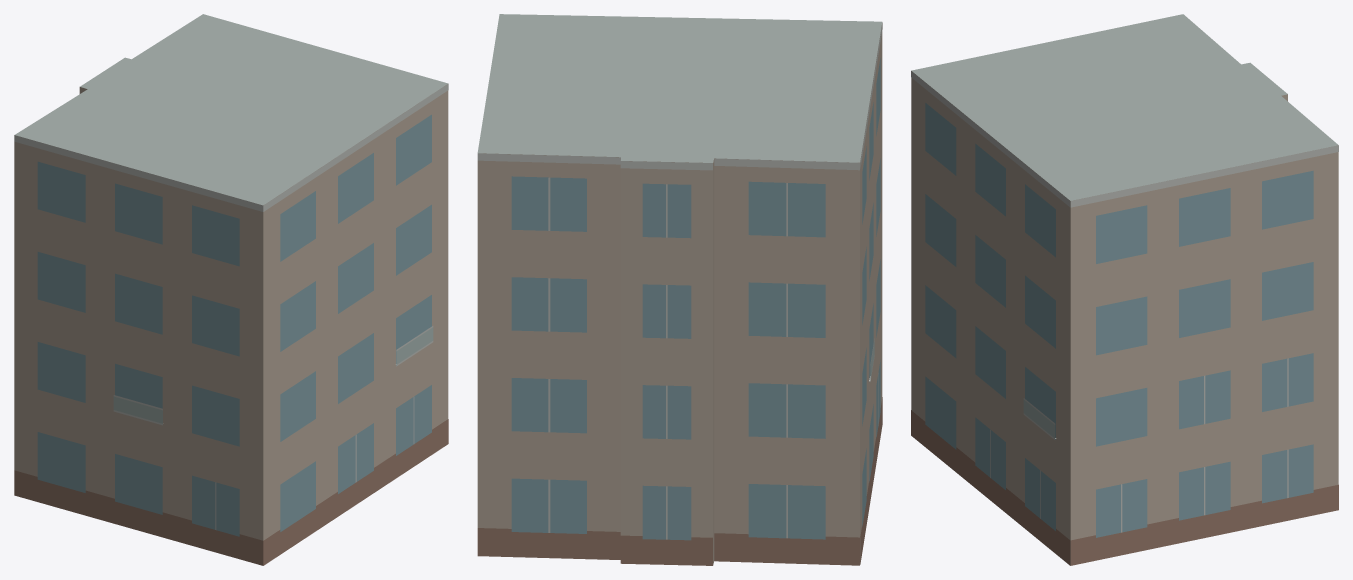
File: survey-upis-32970803.glb
3 renders of one model, left to right at view 1: azimuth 30°, elevation 25°; view 2: azimuth 150°, elevation 25°; view 3: azimuth 270°, elevation 25°, orthographic. The views are drawn at different scales.
Visible parts, largest first — view 1: survey-upis-32970803.tmp; view 2: survey-upis-32970803.tmp; view 3: survey-upis-32970803.tmp.
Boxes of the visible parts, x1=… form: survey-upis-32970803.tmp: x1=14, y1=14, x2=448, y2=565; survey-upis-32970803.tmp: x1=477, y1=14, x2=882, y2=565; survey-upis-32970803.tmp: x1=911, y1=14, x2=1338, y2=565.
Size of the model in its own units: 14.51 by 13.2 by 14.03.
